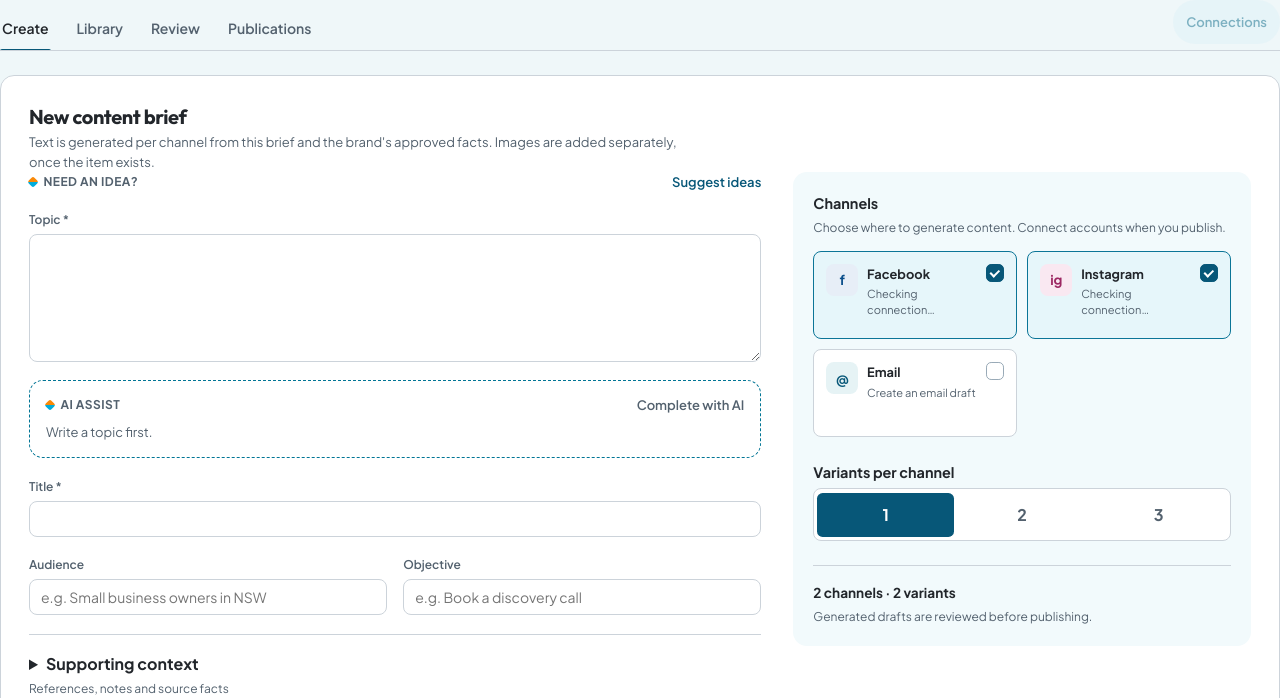
Test: ContentStudioView › opens an item from the library and goes back
Click the tab "Library". click: (100, 28)
box: [74, 6, 125, 50]
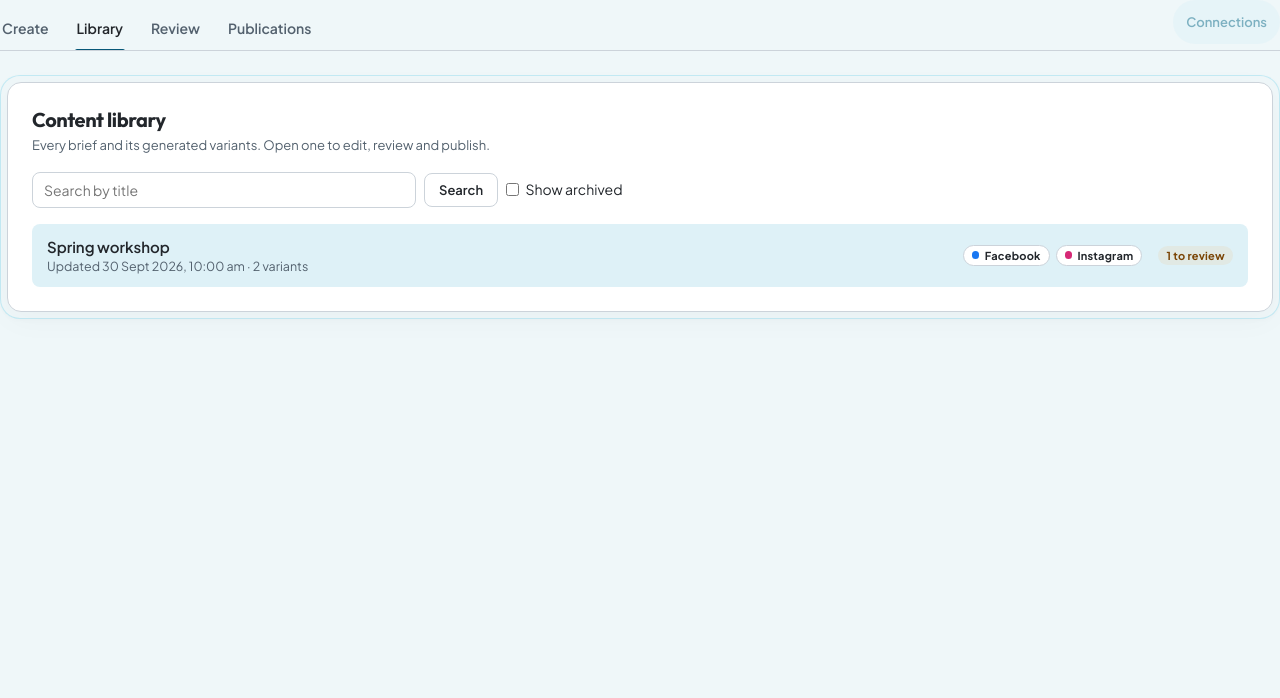
Click the text "Spring workshop". click: (108, 246)
box: [47, 236, 170, 256]
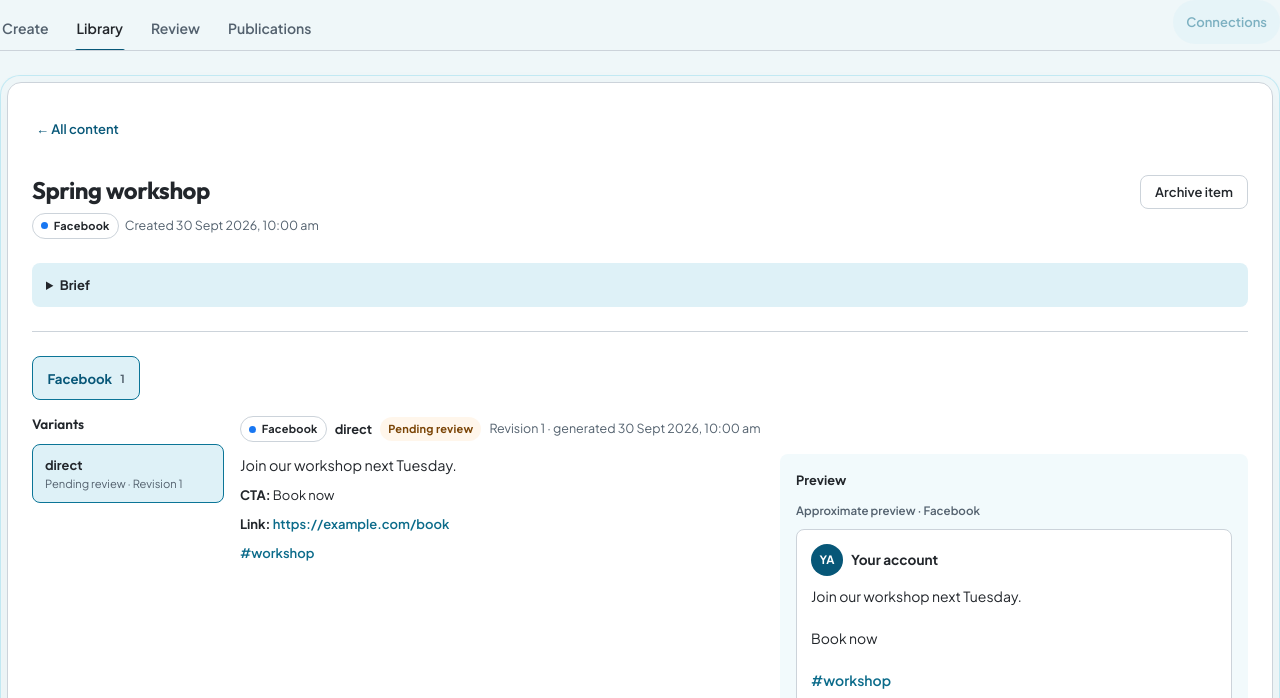
Expected: the heading "Spring workshop" is shown, [32, 175, 210, 205]
Click the button "← All content". click: (77, 129)
box: [32, 107, 123, 151]
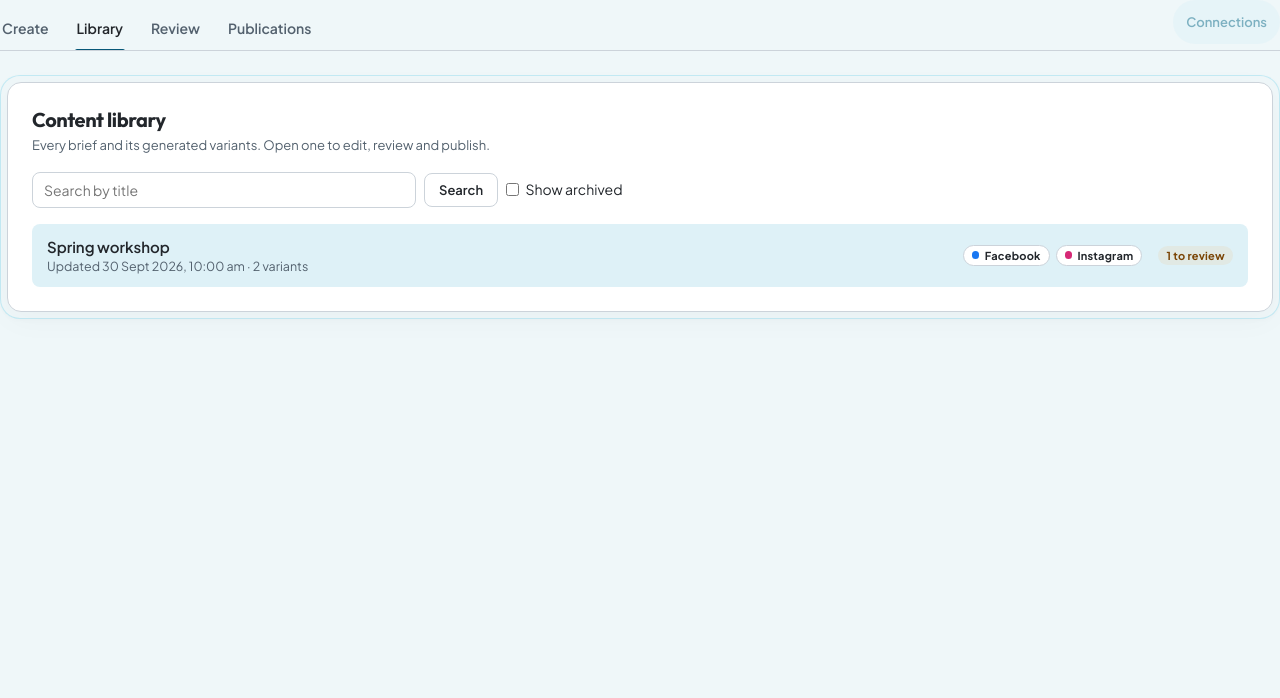
Expected: the heading "Content library" is shown, [32, 107, 166, 132]
